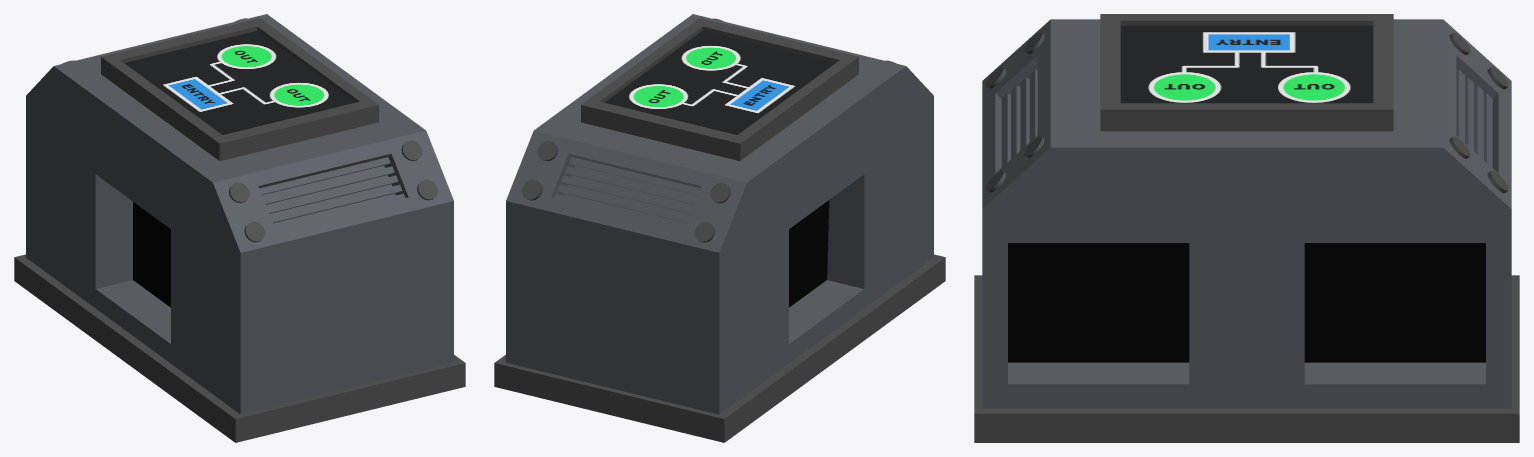
The model's file is Splitter.fbx.
The picture shows the model from 3 angles, left to right: view 1: azimuth 30°, elevation 25°; view 2: azimuth 150°, elevation 25°; view 3: azimuth 270°, elevation 25°; orthographic projection. The views are drawn at different scales.
Parts seen in each view (by area): view 1: Splitter; view 2: Splitter; view 3: Splitter.
Part boxes in pixels (x1,y1,x2,y2): Splitter: (14,14,465,442); Splitter: (494,14,945,442); Splitter: (974,14,1519,442).
Size of the model in its own units: 2.16 by 2.27 by 3.59.
